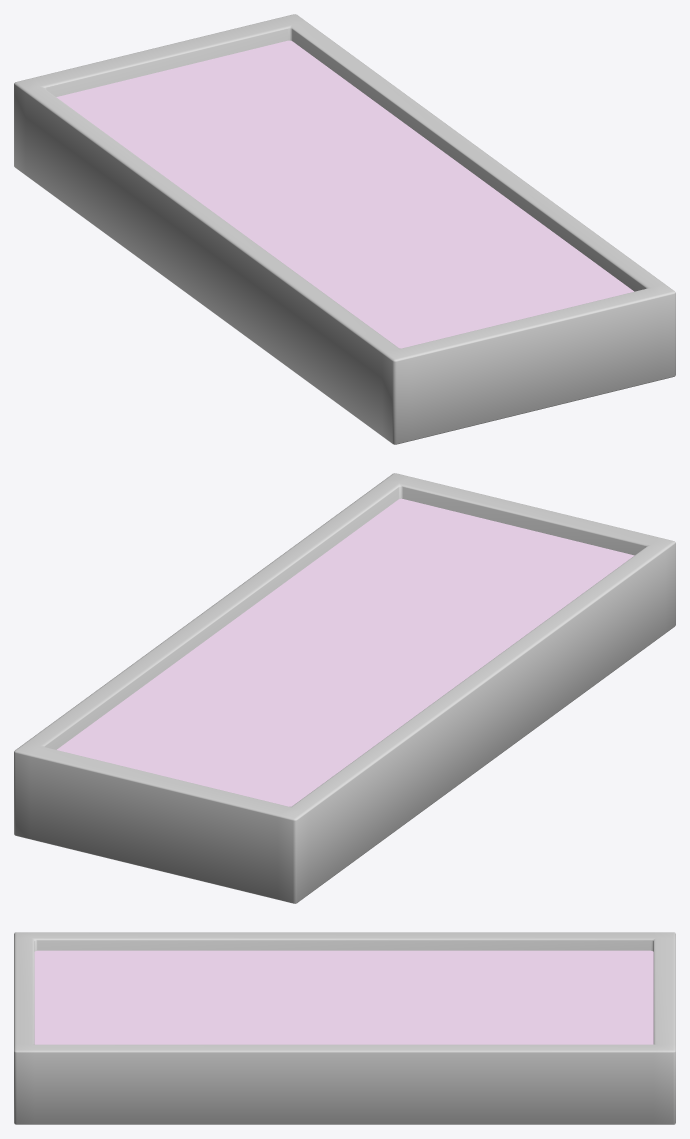
Rendered from horta_canteiro_realista.glb.
3 renders of one model, top to bottom at view 1: azimuth 30°, elevation 25°; view 2: azimuth 150°, elevation 25°; view 3: azimuth 270°, elevation 25°, orthographic. The views are drawn at different scales.
Parts seen in each view (by area): view 1: Cube, Horta_Canteiro_0_Terra.001; view 2: Cube, Horta_Canteiro_0_Terra.001; view 3: Cube, Horta_Canteiro_0_Terra.001.
Part boxes in pixels (x1=…): Cube: x1=14, y1=14, x2=675, y2=444; Horta_Canteiro_0_Terra.001: x1=56, y1=40, x2=633, y2=348; Cube: x1=14, y1=473, x2=675, y2=903; Horta_Canteiro_0_Terra.001: x1=57, y1=498, x2=634, y2=806; Cube: x1=14, y1=932, x2=675, y2=1124; Horta_Canteiro_0_Terra.001: x1=34, y1=950, x2=653, y2=1044.
Size of the model in its own units: 1.38 by 0.3962 by 3.21.
